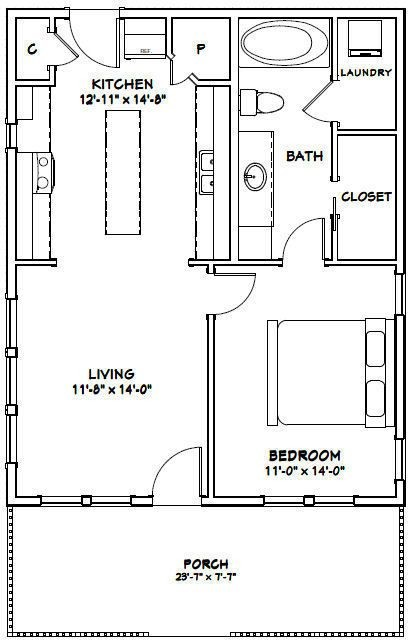door: (66, 19, 123, 69), (278, 210, 329, 264), (151, 446, 198, 502), (211, 269, 254, 311), (306, 83, 334, 125), (51, 32, 76, 70)
room: (26, 271, 203, 506), (215, 270, 393, 493), (21, 82, 227, 267), (241, 25, 331, 266)
wall: (121, 6, 406, 21), (227, 18, 241, 260), (202, 315, 218, 495), (3, 149, 19, 298), (397, 21, 404, 275), (393, 315, 407, 436), (4, 11, 17, 119), (189, 258, 283, 269), (327, 18, 343, 79), (7, 4, 72, 19), (200, 492, 265, 507), (359, 492, 409, 504), (339, 125, 396, 134), (332, 125, 342, 172), (5, 466, 18, 502), (325, 260, 402, 266), (197, 74, 231, 87), (15, 75, 56, 85), (330, 220, 340, 258), (168, 21, 178, 58)
window: (6, 303, 22, 469), (42, 493, 132, 507), (268, 494, 353, 508), (393, 440, 407, 481), (4, 122, 19, 148)
